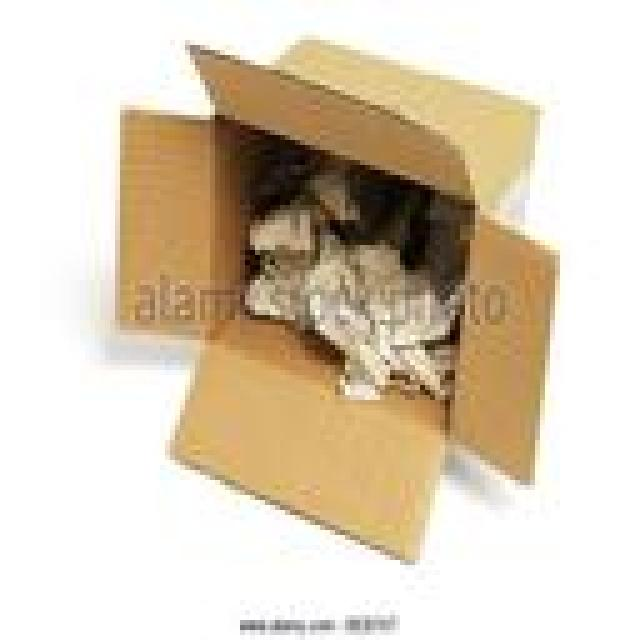cardboard: (115, 35, 555, 560)
paper: (345, 240, 450, 390), (310, 280, 390, 385), (245, 190, 340, 270), (410, 190, 445, 385), (240, 250, 310, 315), (285, 155, 345, 220), (370, 185, 405, 245)
